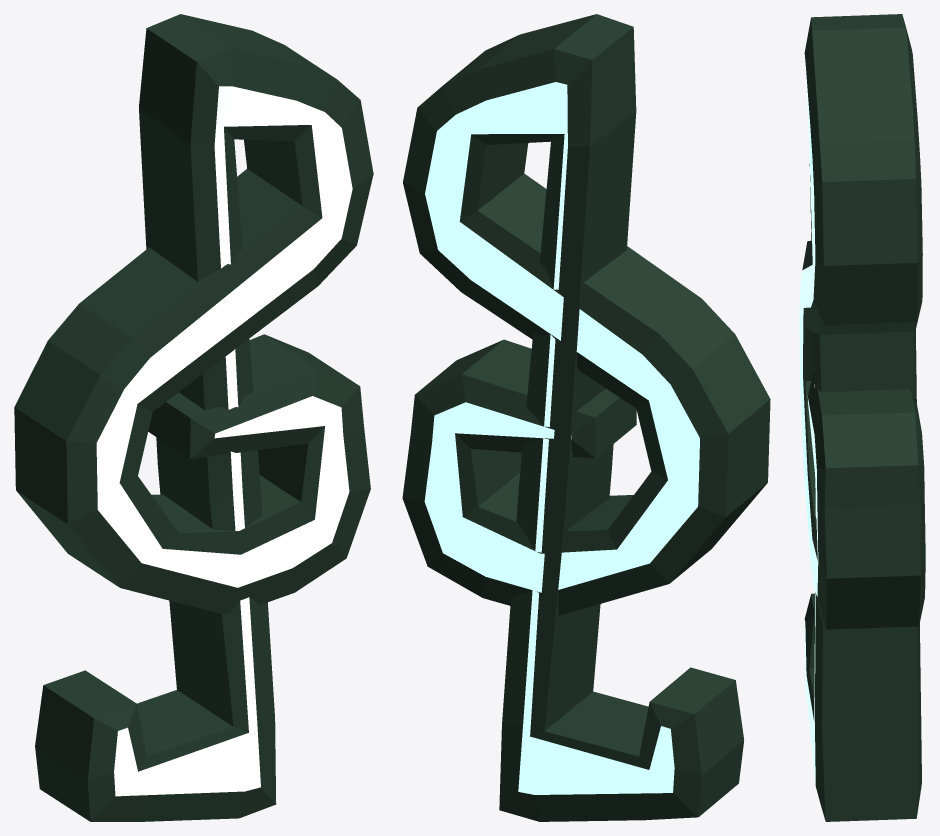
File: Mus_musicalnotes_03.glb
The picture shows the model from 3 angles, left to right: view 1: azimuth 30°, elevation 25°; view 2: azimuth 150°, elevation 25°; view 3: azimuth 270°, elevation 25°; orthographic projection.
Visible parts, largest first — view 1: Mus_musical notes_03; view 2: Mus_musical notes_03; view 3: Mus_musical notes_03.
Part boxes in pixels (x1=…): Mus_musical notes_03: x1=14, y1=14, x2=373, y2=821; Mus_musical notes_03: x1=402, y1=14, x2=770, y2=821; Mus_musical notes_03: x1=799, y1=14, x2=925, y2=821.
Size of the model in its own units: 9.95 by 22.94 by 3.42.
Materials: 2 (1 with a texture image).
